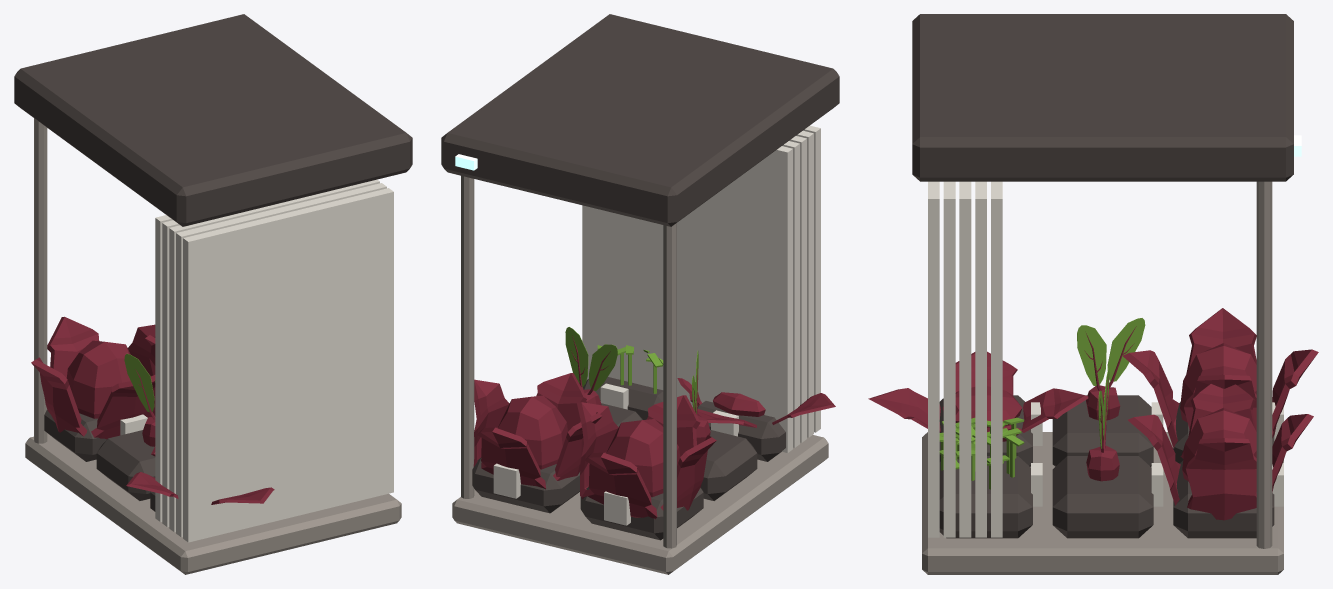
The model's file is prop_veggie.glb.
The picture shows the model from 3 angles, left to right: view 1: azimuth 30°, elevation 25°; view 2: azimuth 150°, elevation 25°; view 3: azimuth 270°, elevation 25°; orthographic projection. The views are drawn at different scales.
Parts seen in each view (by area): view 1: bellows0, cap, plate, Lettuce_3, post-1, bellows1, bellows2, pillow2, bellows3, bellows4, pillow0, Beet_3_Cube (+1 smaller); view 2: cap, bellows4, plate, Lettuce_3, Lettuce_3.001, post-1, post1, pillow2, pillow1, Lettuce_3.002, bellows3, bellows2 (+10 smaller); view 3: cap, plate, Lettuce_3.001, Lettuce_3, pillow3, post1, bellows1, bellows2, Lettuce_3.002, bellows0, bellows3, bellows4 (+6 smaller).
Part boxes in pixels (<box>): bellows0: <box>183,188,393,542</box>; cap: <box>14,14,412,226</box>; plate: <box>25,433,401,574</box>; Lettuce_3: <box>31,316,155,439</box>; post-1: <box>34,118,47,443</box>; bellows1: <box>176,183,386,537</box>; bellows2: <box>169,179,379,532</box>; pillow2: <box>96,430,155,500</box>; bellows3: <box>162,220,179,527</box>; bellows4: <box>155,215,172,521</box>; pillow0: <box>44,410,106,461</box>; Beet_3_Cube: <box>124,353,155,446</box>; cap: <box>441,14,839,226</box>; bellows4: <box>582,146,792,452</box>; plate: <box>452,435,828,574</box>; Lettuce_3: <box>577,395,716,519</box>; Lettuce_3.001: <box>473,373,602,489</box>; post-1: <box>663,223,676,548</box>; post1: <box>461,175,474,498</box>; pillow2: <box>700,430,757,500</box>; pillow1: <box>472,457,579,513</box>; Lettuce_3.002: <box>677,378,835,427</box>; bellows3: <box>782,141,799,447</box>; bellows2: <box>789,136,806,442</box>; cap: <box>912,14,1293,181</box>; plate: <box>922,432,1283,574</box>; Lettuce_3.001: <box>1128,374,1313,520</box>; Lettuce_3: <box>1122,308,1318,458</box>; pillow3: <box>1052,456,1153,538</box>; post1: <box>1256,181,1272,548</box>; bellows1: <box>943,181,955,537</box>; bellows2: <box>959,181,971,537</box>; Lettuce_3.002: <box>868,351,1088,441</box>; bellows0: <box>928,181,939,537</box>; bellows3: <box>975,181,986,537</box>; bellows4: <box>991,181,1002,537</box>.
Size of the model in its own units: 0.3433 by 0.495 by 0.4583.
